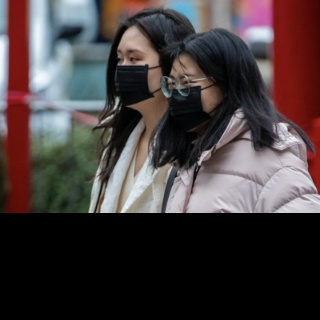with_mask: (167, 72, 222, 132), (115, 48, 161, 108)
